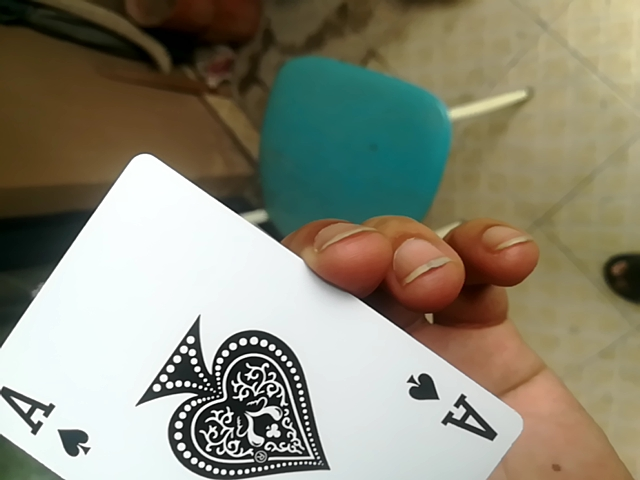ht a: (2, 155, 526, 480)
